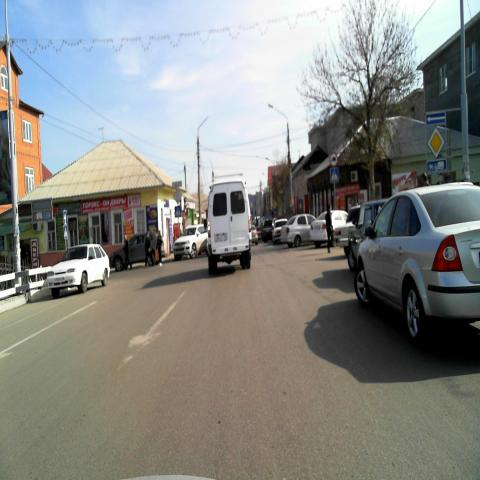5_7_2: (426, 111, 447, 123)
